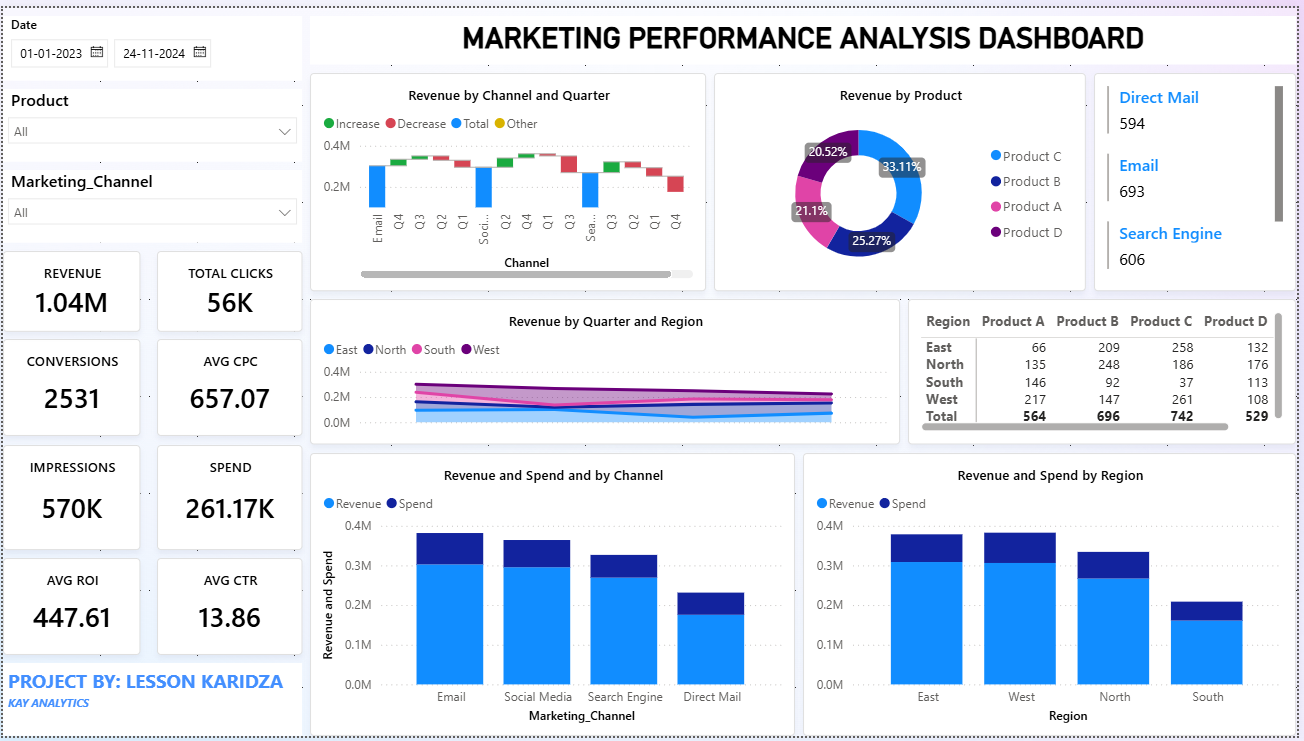

Layout of this report page (visuals, bound fields, positions):
{"tool":"powerbi","page":{"name":"Page 1","canvas":[1280,720],"ordinal":0},"visuals":[{"type":"card","title":"TOTAL CLICKS","fields":{"Values":["Sum(Sheet1.Clicks)"]},"box":[152,240,144,80],"z":0},{"type":"card","title":"CONVERSIONS","fields":{"Values":["Sum(Sheet1.Conversions)"]},"box":[0,328,136,96],"z":1},{"type":"card","title":"AVG CPC","fields":{"Values":["Sum(Sheet1.CPC)"]},"box":[152,328,144,96],"z":2},{"type":"card","title":"IMPRESSIONS","fields":{"Values":["Sum(Sheet1.Impressions)"]},"box":[0,432,136,104],"z":3},{"type":"card","title":"REVENUE","fields":{"Values":["Sum(Sheet1.Revenue)"]},"box":[0,240,136,80],"z":4},{"type":"card","title":"SPEND","fields":{"Values":["Sum(Sheet1.Spend)"]},"box":[152,432,144,104],"z":5},{"type":"card","title":"AVG ROI","fields":{"Values":["Sum(Sheet1.ROI)"]},"box":[0,544,136,96],"z":6},{"type":"card","title":"AVG CTR","fields":{"Values":["Sum(Sheet1.CTR)"]},"box":[152,544,144,96],"z":7},{"type":"textbox","box":[304,8,976,48],"z":8},{"type":"slicer","fields":{"Values":["Sheet1.Date"]},"box":[0,8,296,64],"z":9},{"type":"waterfallChart","title":"Revenue by Channel and Quarter","fields":{"Category":["Sheet1.Marketing_Channel"],"Y":["Sum(Sheet1.Revenue)"],"Breakdown":["Sheet1.Quarter"]},"box":[304,64,392,216],"z":10},{"type":"donutChart","title":" Revenue by Product","fields":{"Category":["Sheet1.Product"],"Y":["Sum(Sheet1.Revenue)"]},"box":[704,64,368,216],"z":11},{"type":"columnChart","title":" Revenue and Spend by Region","fields":{"Category":["Sheet1.Region"],"Y":["Sum(Sheet1.Revenue)","Sum(Sheet1.Spend)"]},"box":[792,440,488,280],"z":12},{"type":"columnChart","title":"Revenue and Spend and  by Channel","fields":{"Y":["Sum(Sheet1.Revenue)","Sum(Sheet1.Spend)"],"Category":["Sheet1.Marketing_Channel"]},"box":[304,440,480,280],"z":13},{"type":"stackedAreaChart","title":" Revenue by Quarter and Region","fields":{"Y":["Sum(Sheet1.Revenue)"],"Category":["Sheet1.Quarter"],"Series":["Sheet1.Region"]},"box":[304,288,584,144],"z":14},{"type":"multiRowCard","fields":{"Values":["Sheet1.Marketing_Channel","Sum(Sheet1.Conversions)"]},"box":[1080,64,200,216],"z":15},{"type":"pivotTable","fields":{"Rows":["Sheet1.Region"],"Columns":["Sheet1.Product"],"Values":["Sum(Sheet1.Conversions)"]},"box":[896,288,384,144],"z":16},{"type":"slicer","fields":{"Values":["Sheet1.Product"]},"box":[0,80,296,72],"z":17},{"type":"slicer","fields":{"Values":["Sheet1.Marketing_Channel"]},"box":[0,160,296,72],"z":18},{"type":"textbox","box":[0,648,296,72],"z":19}]}

Visuals, with their boxes in screenshot pixels (x1, y1, x2, y2), scaled from the page's 1280x720 canvas onto the 1304x741 screenshot:
"TOTAL CLICKS" card: select_region(155, 247, 302, 329)
"CONVERSIONS" card: select_region(0, 338, 139, 436)
"AVG CPC" card: select_region(155, 338, 302, 436)
"IMPRESSIONS" card: select_region(0, 445, 139, 552)
"REVENUE" card: select_region(0, 247, 139, 329)
"SPEND" card: select_region(155, 445, 302, 552)
"AVG ROI" card: select_region(0, 560, 139, 659)
"AVG CTR" card: select_region(155, 560, 302, 659)
textbox: select_region(310, 8, 1303, 58)
slicer - Sheet1.Date: select_region(0, 8, 302, 74)
"Revenue by Channel and Quarter" waterfallChart: select_region(310, 66, 709, 288)
" Revenue by Product" donutChart: select_region(717, 66, 1092, 288)
" Revenue and Spend by Region" columnChart: select_region(807, 453, 1303, 740)
"Revenue and Spend and  by Channel" columnChart: select_region(310, 453, 799, 740)
" Revenue by Quarter and Region" stackedAreaChart: select_region(310, 296, 905, 445)
multiRowCard - Sheet1.Marketing_Channel x Sum(Sheet1.Conversions): select_region(1100, 66, 1303, 288)
pivotTable - Sheet1.Region x Sheet1.Product: select_region(913, 296, 1303, 445)
slicer - Sheet1.Product: select_region(0, 82, 302, 156)
slicer - Sheet1.Marketing_Channel: select_region(0, 165, 302, 239)
textbox: select_region(0, 667, 302, 740)
